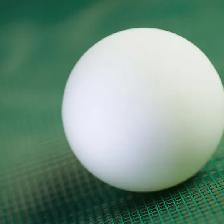WhiteBall: (60, 26, 222, 192)
